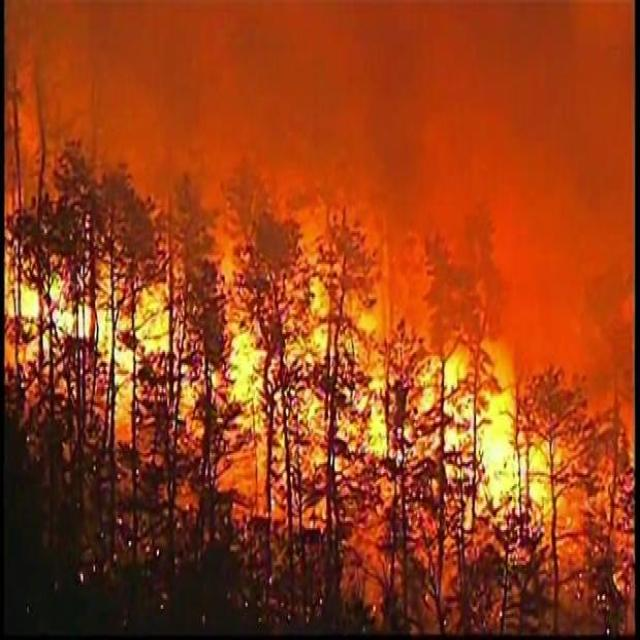Fire: (0, 179, 629, 566)
Smoke: (5, 0, 640, 367)
